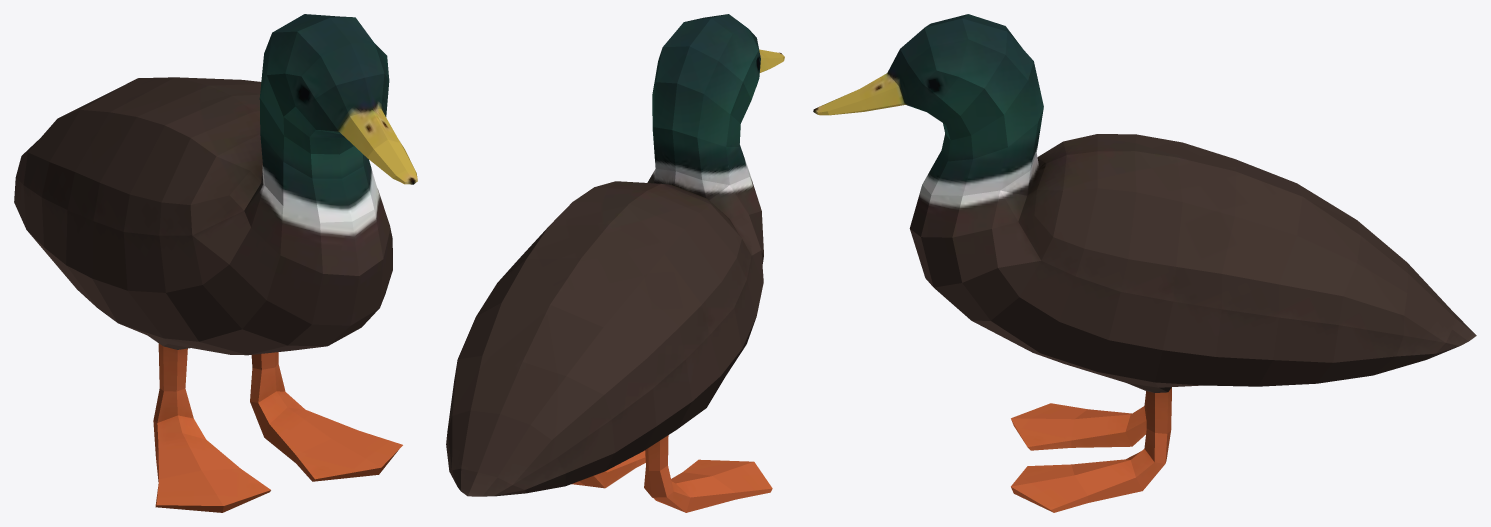
The model's file is animals-mallard-duck-143.glb.
3 views of the same model, side by side, from view 1: azimuth 30°, elevation 25°; view 2: azimuth 150°, elevation 25°; view 3: azimuth 270°, elevation 25° (orthographic). The views are drawn at different scales.
Visible parts, largest first — view 1: MallardDuck_Mesh; view 2: MallardDuck_Mesh; view 3: MallardDuck_Mesh.
Part boxes in pixels (left/top/right/bottom): MallardDuck_Mesh: left=14, top=14, right=417, bottom=512; MallardDuck_Mesh: left=446, top=14, right=784, bottom=512; MallardDuck_Mesh: left=813, top=14, right=1476, bottom=512.
Size of the model in its own units: 0.9816 by 1.87 by 2.55.
1 material, 1 textured.
